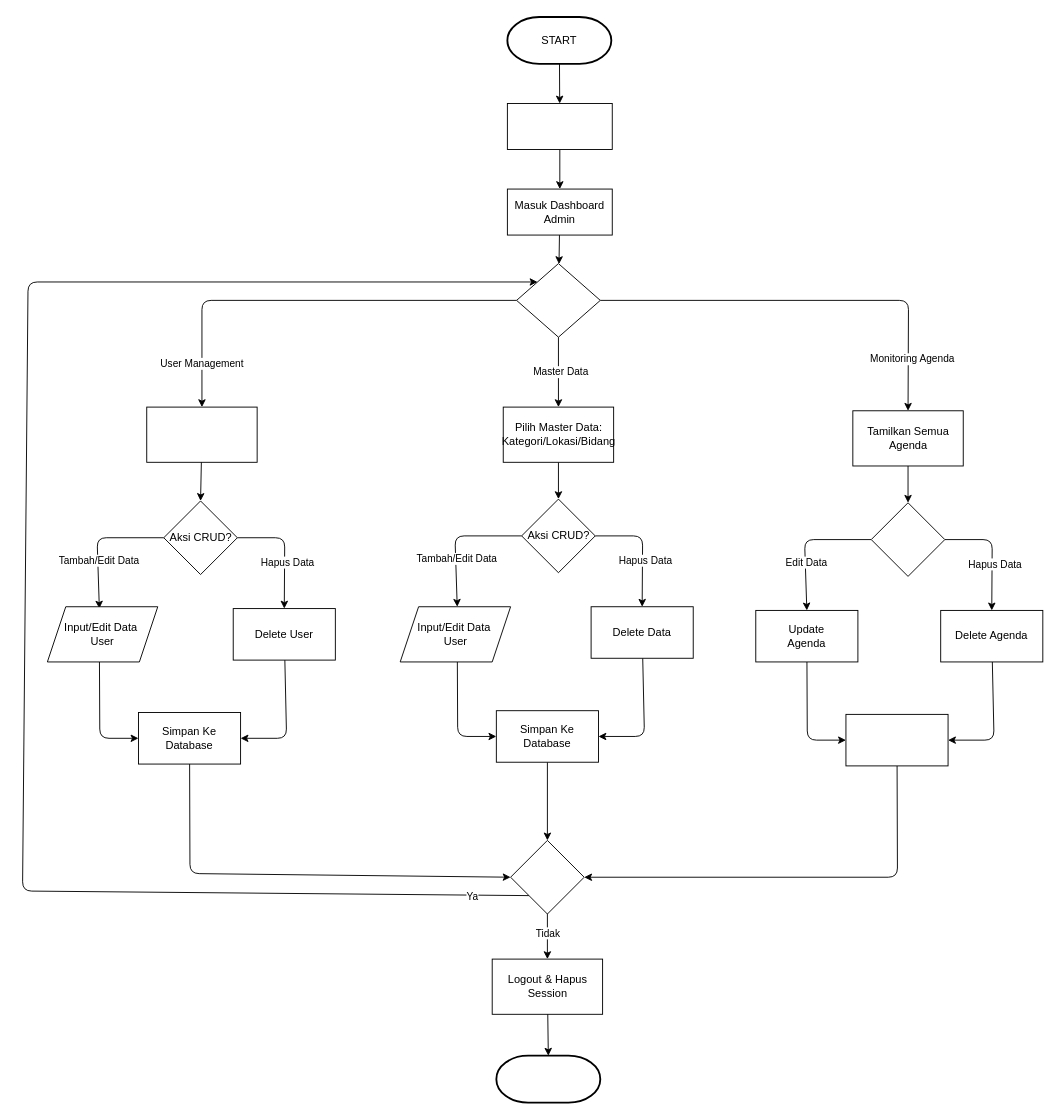
This 1059x1119 diagram has some shape labels left out. Here are the shapes that lost their labels. From the top down, the centre of each, then its label:
(559,126): Admin Login
(558,300): Pilih Menu
(201,434): Tampilkan Daftar User
(907,539): Aksi
(896,739): Simpan Perubahan
(547,877): Masih Memilih Menu?
(548,1078): END
